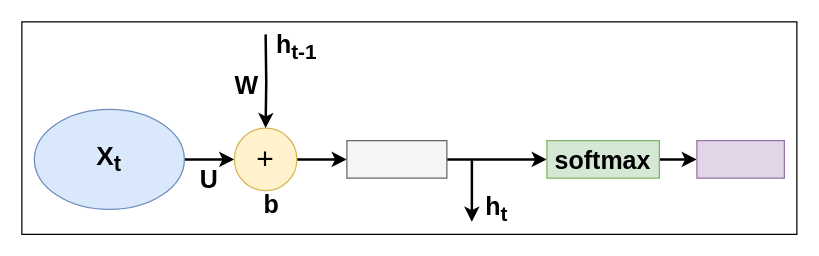
Some shapes in this 819 by 256 pixel diagram are drawn without their labels. Here are the shapes that lost their labels. From the top down, the box of each, then its label:
(346, 139, 447, 178): tanh
(696, 139, 784, 178): y t
